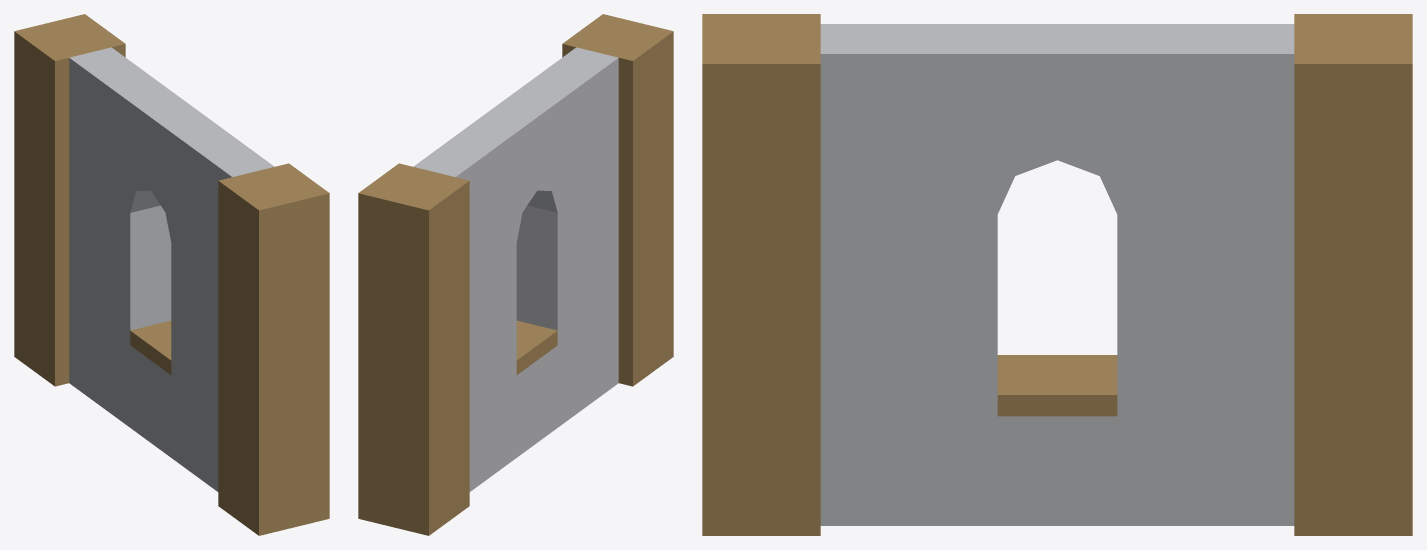
The model's file is Wood_Window_Round_Sill_01.obj.
3 views of the same model, side by side, from view 1: azimuth 30°, elevation 25°; view 2: azimuth 150°, elevation 25°; view 3: azimuth 270°, elevation 25° (orthographic). The views are drawn at different scales.
Parts seen in each view (by area): view 1: Mesh1_Wood_Window_Round_Sill_Model; view 2: Mesh1_Wood_Window_Round_Sill_Model; view 3: Mesh1_Wood_Window_Round_Sill_Model.
Boxes of the visible parts, <box> form: Mesh1_Wood_Window_Round_Sill_Model: <box>14,14,329,535</box>; Mesh1_Wood_Window_Round_Sill_Model: <box>358,14,673,535</box>; Mesh1_Wood_Window_Round_Sill_Model: <box>702,14,1412,535</box>.
Bounding box in the file's own units: 0.5 × 2.2 × 3.
